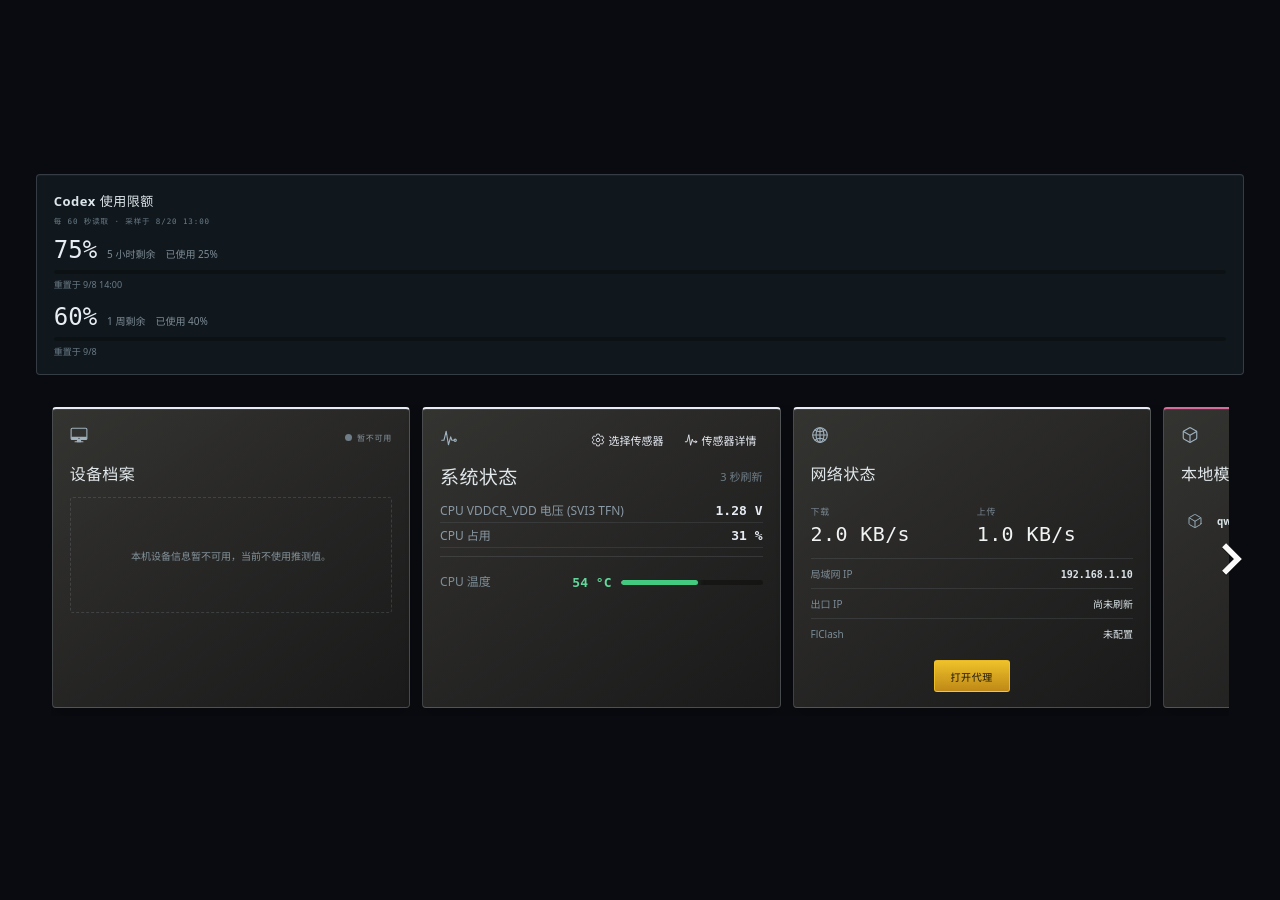
Test case: LocalPage › curates duplicate and low-level readings across the sensor picker
The image size is (1280, 900).
Click the button "选择传感器" at {"x": 627, "y": 440}, box [584,426,670,454]
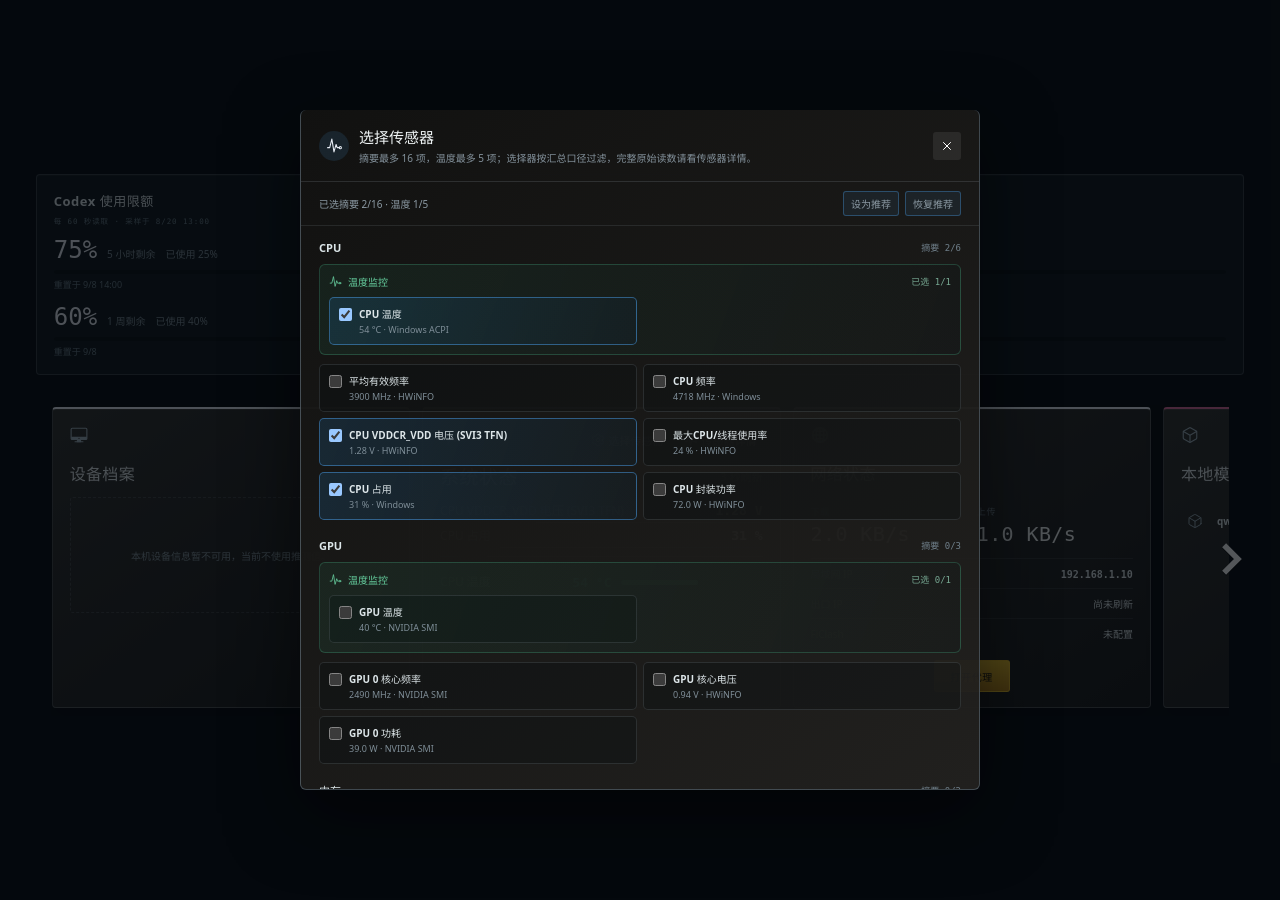
Expected: the dialog with id "obsui-sensor-picker" shows "平均有效频率", [349,374,409,388]
Expected: the dialog with id "obsui-sensor-picker" shows "CPU VDDCR_VDD 电压 (SVI3 TFN)", [349,428,507,442]
Expected: the dialog with id "obsui-sensor-picker" shows "最大CPU/线程使用率", [673,428,767,442]
